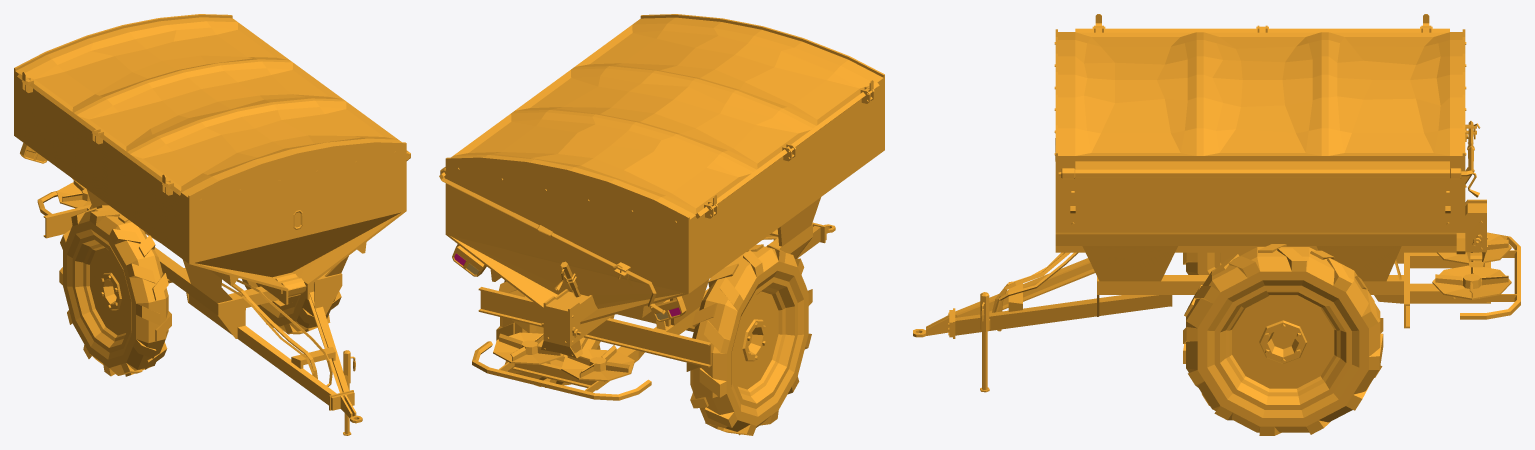
File: SM_Fertilizer_Spreader.fbx
3 renders of one model, left to right at view 1: azimuth 30°, elevation 25°; view 2: azimuth 150°, elevation 25°; view 3: azimuth 270°, elevation 25°, orthographic. The views are drawn at different scales.
Parts seen in each view (by area): view 1: fertilizer-spreader-base, fertilizer-spreader-wheel-r, fertilizer-spreader-wheel-l, fertilizer-spreader-spinner-r; view 2: fertilizer-spreader-base, fertilizer-spreader-wheel-r, fertilizer-spreader-spinner-r, fertilizer-spreader-spinner-l, fertilizer-spreader-wheel-l; view 3: fertilizer-spreader-base, fertilizer-spreader-wheel-l, fertilizer-spreader-spinner-l, fertilizer-spreader-wheel-r, fertilizer-spreader-spinner-r.
Part boxes in pixels (x1=…): fertilizer-spreader-base: x1=14, y1=14, x2=410, y2=423; fertilizer-spreader-wheel-r: x1=59, y1=205, x2=171, y2=376; fertilizer-spreader-wheel-l: x1=242, y1=279, x2=341, y2=334; fertilizer-spreader-spinner-r: x1=56, y1=178, x2=91, y2=208; fertilizer-spreader-base: x1=439, y1=14, x2=884, y2=400; fertilizer-spreader-wheel-r: x1=686, y1=244, x2=812, y2=435; fertilizer-spreader-spinner-r: x1=561, y1=345, x2=634, y2=381; fertilizer-spreader-spinner-l: x1=493, y1=332, x2=563, y2=364; fertilizer-spreader-wheel-l: x1=496, y1=280, x2=614, y2=387; fertilizer-spreader-base: x1=913, y1=14, x2=1520, y2=338; fertilizer-spreader-wheel-l: x1=1183, y1=244, x2=1383, y2=435; fertilizer-spreader-spinner-l: x1=1432, y1=260, x2=1511, y2=299; fertilizer-spreader-wheel-r: x1=1183, y1=252, x2=1245, y2=274; fertilizer-spreader-spinner-r: x1=1437, y1=233, x2=1511, y2=264.
Bounding box in the file's own units: 2.63 × 2.89 × 5.13.
